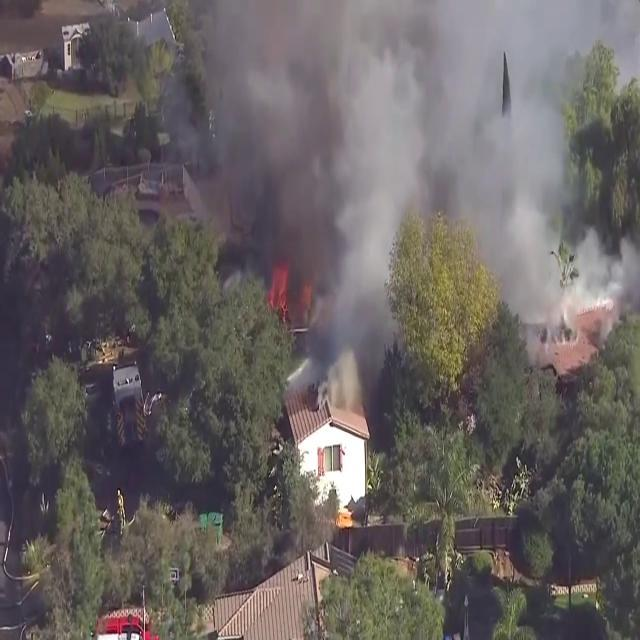Smoke: (184, 2, 628, 354)
